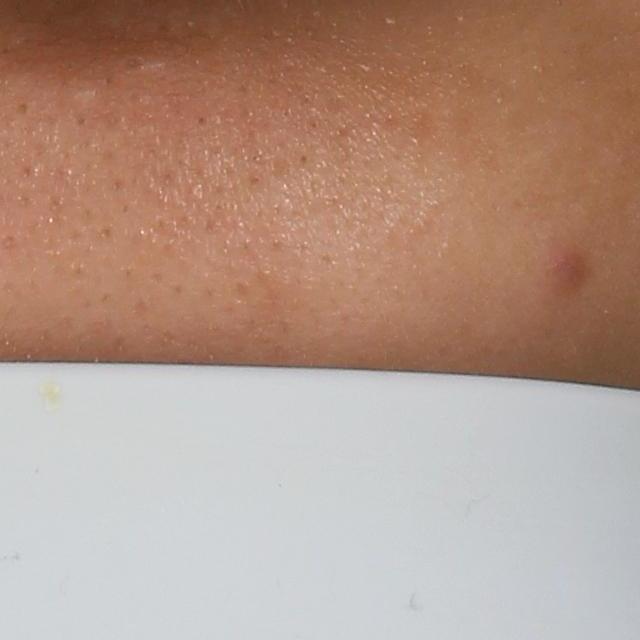comedo: (117, 50, 153, 78)
papule: (537, 243, 590, 305)
